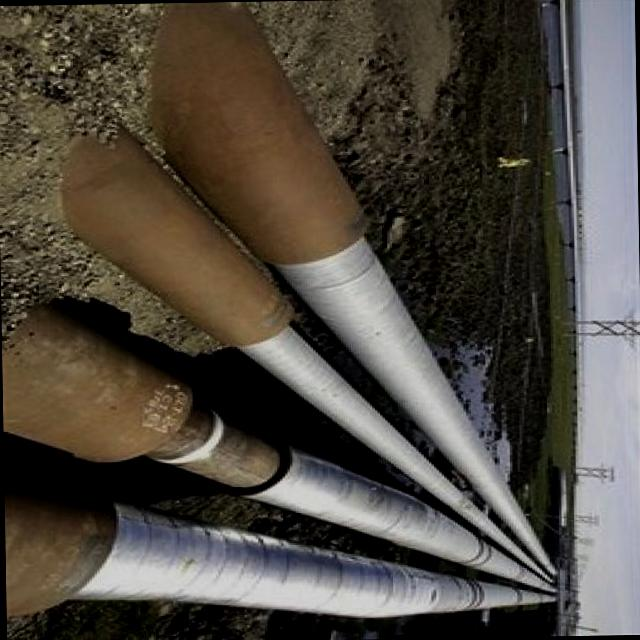gas: (153, 2, 547, 567), (62, 131, 534, 569), (0, 303, 551, 590), (3, 465, 554, 617)
